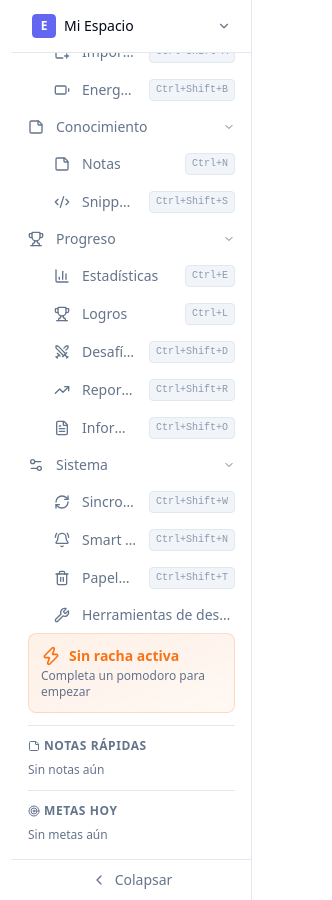
Test case: Sidebar · acordeón de hubs › retrae y vuelve a desplegar las opciones al hacer clic en el hub
(page scrolled)
Check: the text "Sincronización" is shown, box [82, 492, 137, 512]
Click the button "Sistema" at (132, 465), box [12, 447, 251, 483]
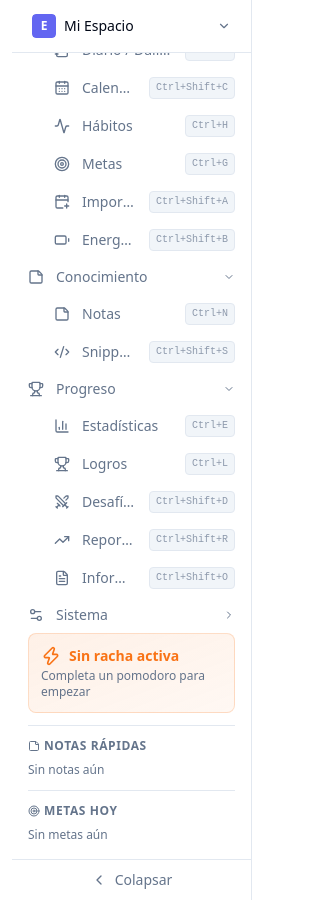
Check: the button "Sincronización" is gone
Click the button "Sistema" at (132, 615), box [12, 597, 251, 633]
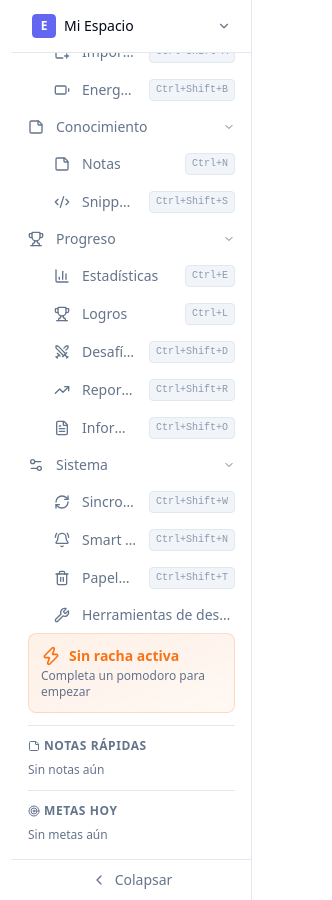
Check: the text "Sincronización" is shown, box [82, 492, 137, 512]
